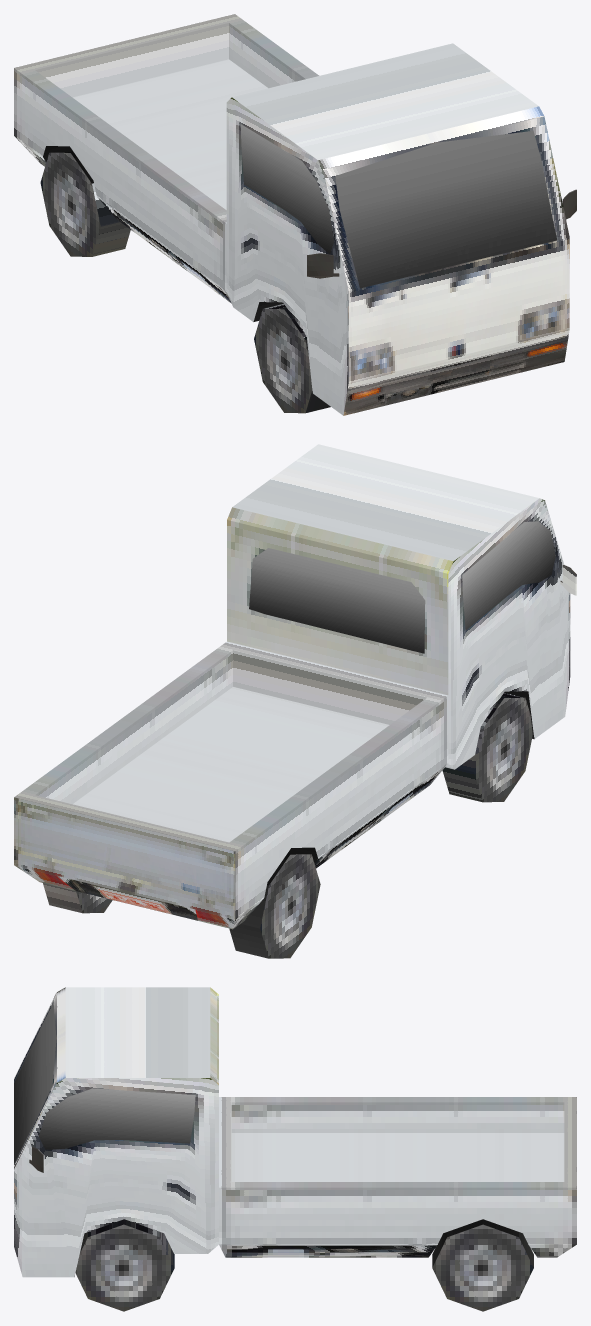
File: ps1_90s_japanese_truck.glb
The picture shows the model from 3 angles, top to bottom: view 1: azimuth 30°, elevation 25°; view 2: azimuth 150°, elevation 25°; view 3: azimuth 270°, elevation 25°; orthographic projection. The views are drawn at different scales.
Visible parts, largest first — view 1: Trucky; view 2: Trucky; view 3: Trucky.
Boxes of the visible parts, <box> form: Trucky: <box>14,14,576,415</box>; Trucky: <box>14,444,576,958</box>; Trucky: <box>14,987,576,1311</box>.
Size of the model in its own units: 1.86 by 1.83 by 4.
Materials: 1 (1 with a texture image).
